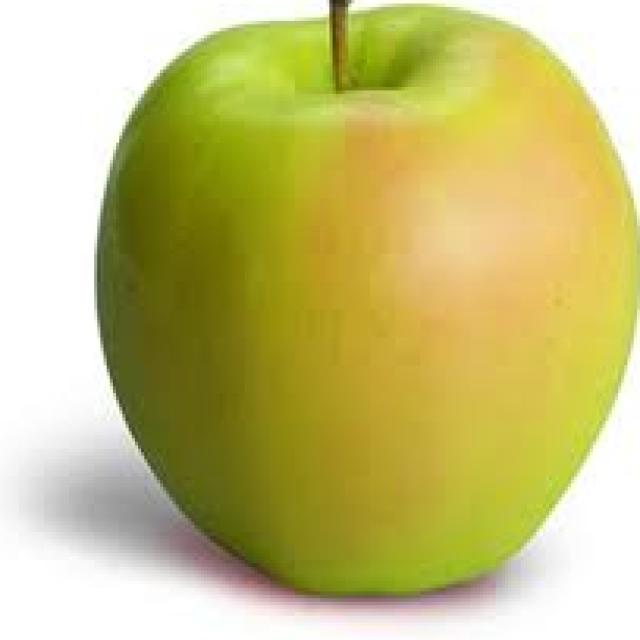apple: (104, 0, 640, 598)
